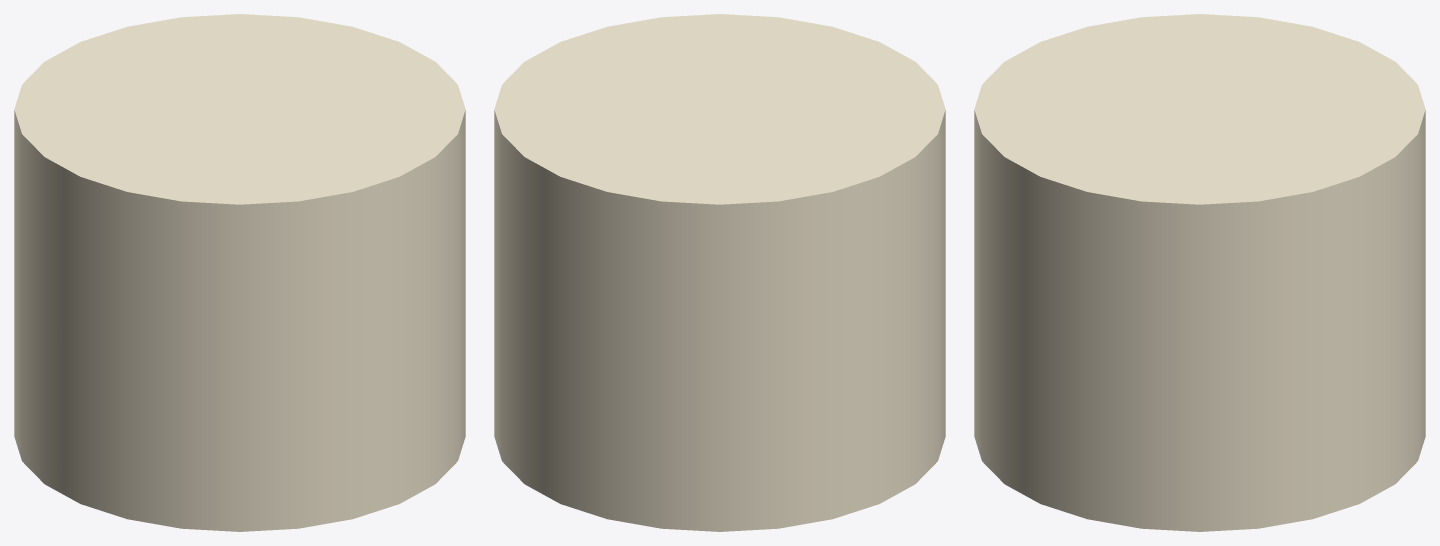
Rendered from original-40.obj.
The picture shows the model from 3 angles, left to right: view 1: azimuth 30°, elevation 25°; view 2: azimuth 150°, elevation 25°; view 3: azimuth 270°, elevation 25°; orthographic projection.
Parts seen in each view (by area): view 1: #ID223; view 2: #ID223; view 3: #ID223.
Part boxes in pixels (x1,y1,x2,y2): #ID223: [14, 14, 465, 531]; #ID223: [494, 14, 945, 531]; #ID223: [974, 14, 1425, 531].
Bounding box in the file's own units: 0.1734 × 0.1387 × 0.1734.
